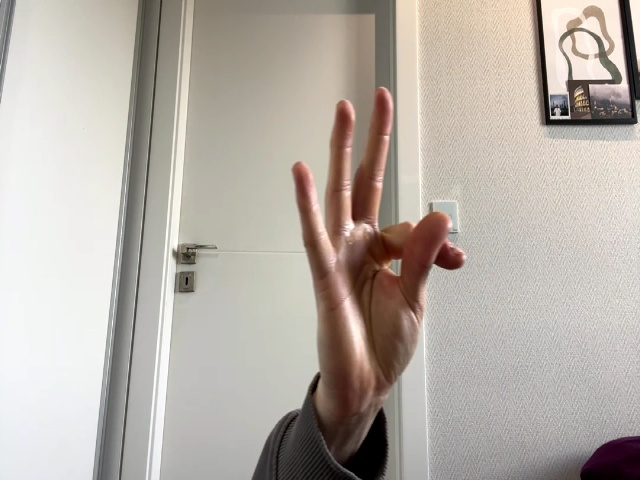T: (293, 87, 466, 395)
